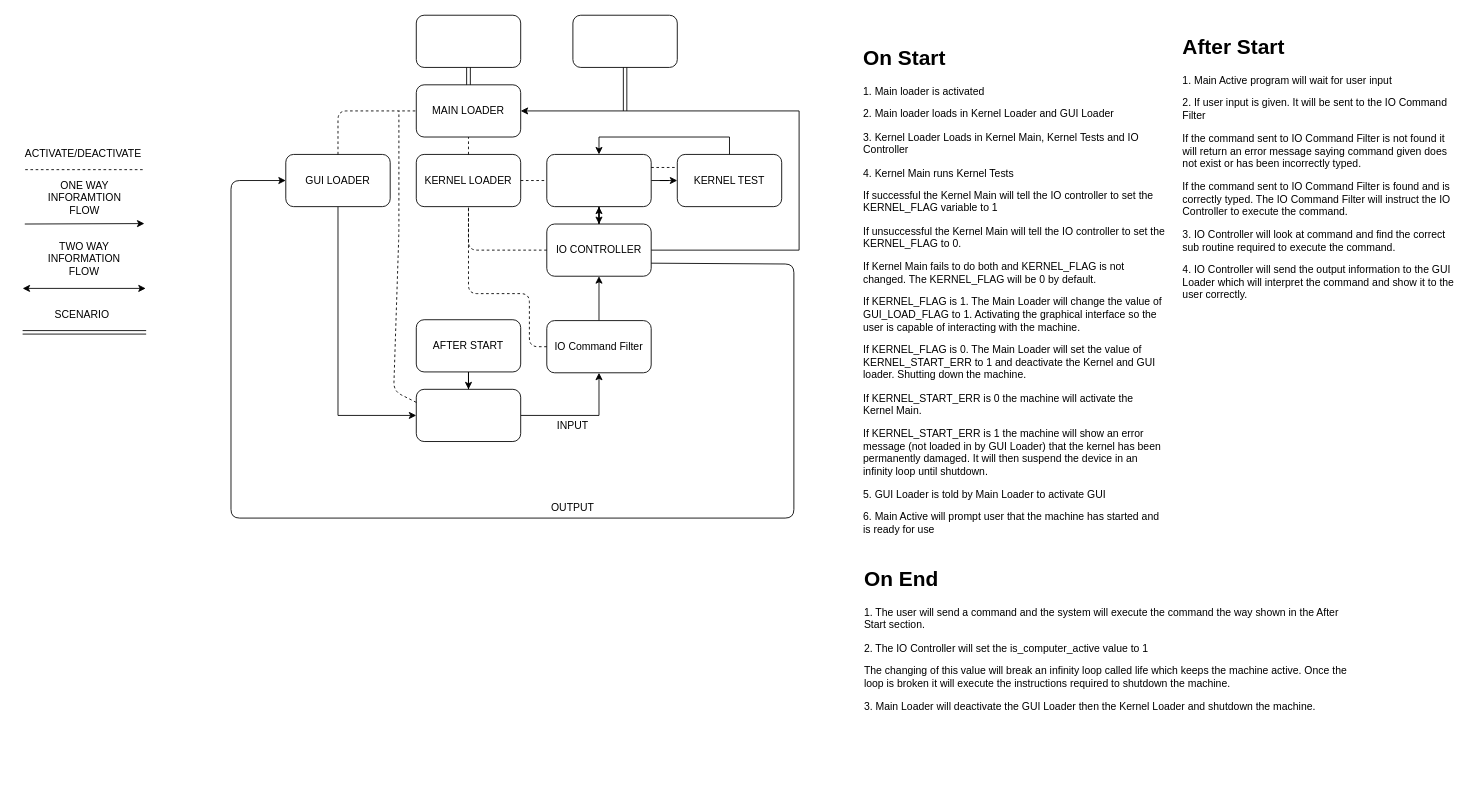
The diagram is 1476 pixels wide and 809 high, and some of its shapes have lost their labels. Here are the shapes that lost their labels. From the top down, the centre of each, then its label:
At (468,40): "ON START".
At (624,40): "ON END".
At (598,180): "KERNEL MAIN".
At (468,415): "MAIN ACTIVE".
